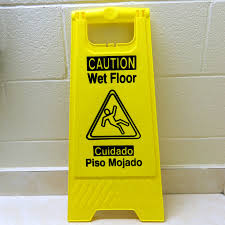wet caution sign: (60, 1, 169, 223)
